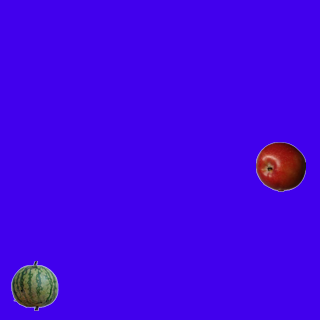Apple Braeburn: (255, 141, 305, 191)
Watermelon: (9, 260, 59, 310)
